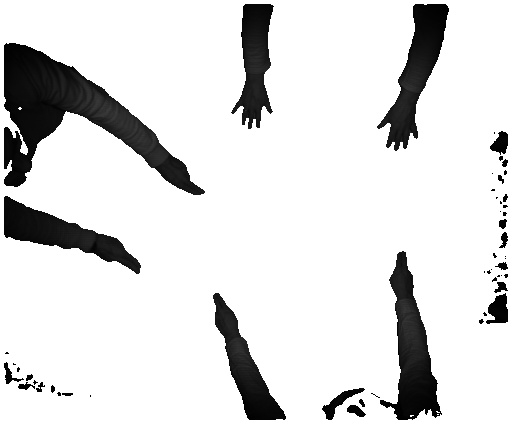hand: (228, 83, 279, 135), (376, 99, 421, 151), (96, 235, 143, 279), (161, 156, 207, 199), (208, 288, 241, 341), (384, 248, 418, 299)
